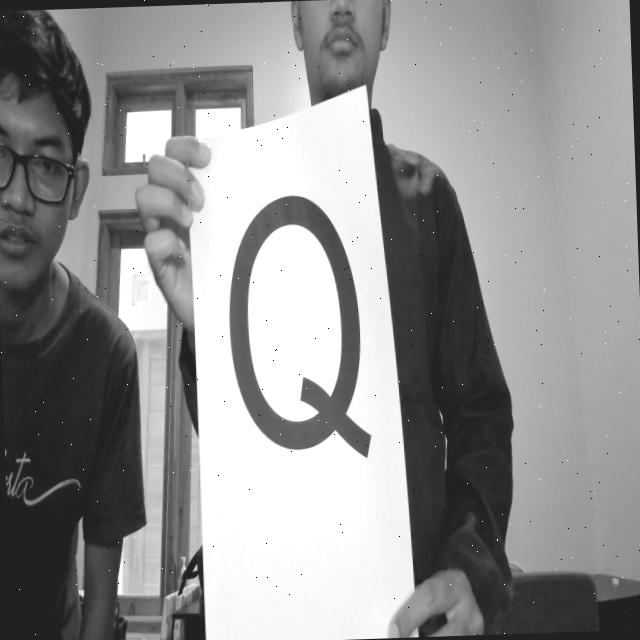q: (216, 176, 387, 493)
